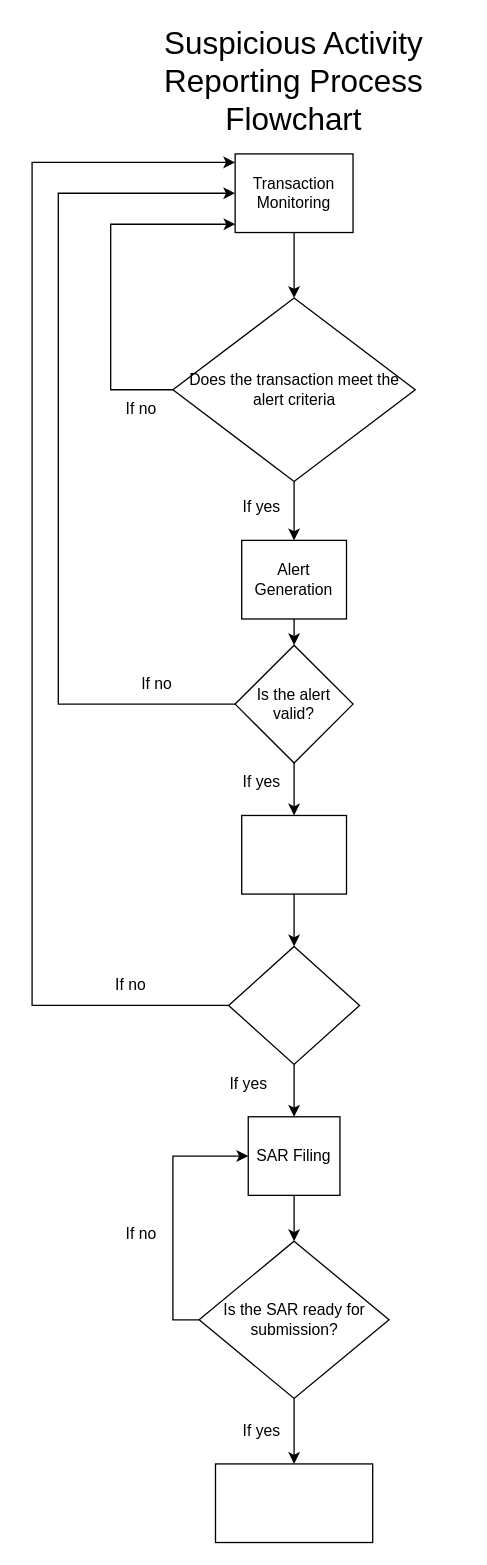
This 487x1565 diagram has some shape labels left out. Each missing label, with the centre of its shape:
"Investigate" belongs at (293,854).
"Is the activity suspicious?" belongs at (293,1004).
"Regulatory Submission" belongs at (293,1503).
